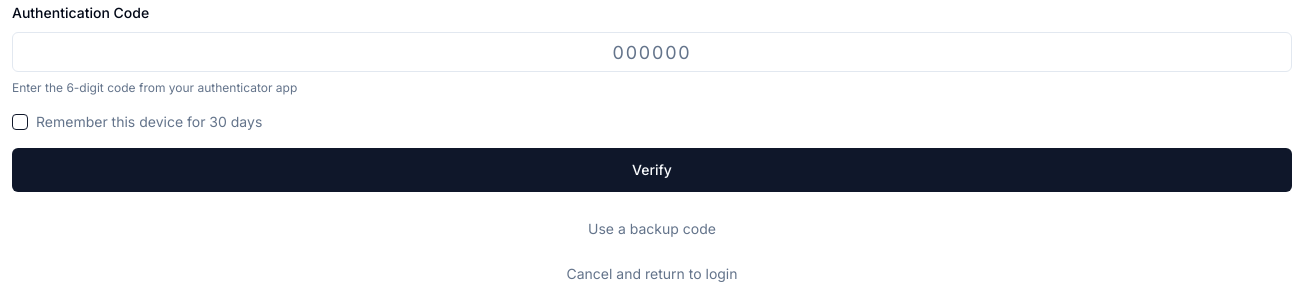
it: TwoFactorVerifyForm › when userId is present › toggles to backup code mode
What coordinates should you click on to do the following:
click the button "Use a backup code"
I would click on:
 (652, 229)
Its box is [588, 219, 716, 239].
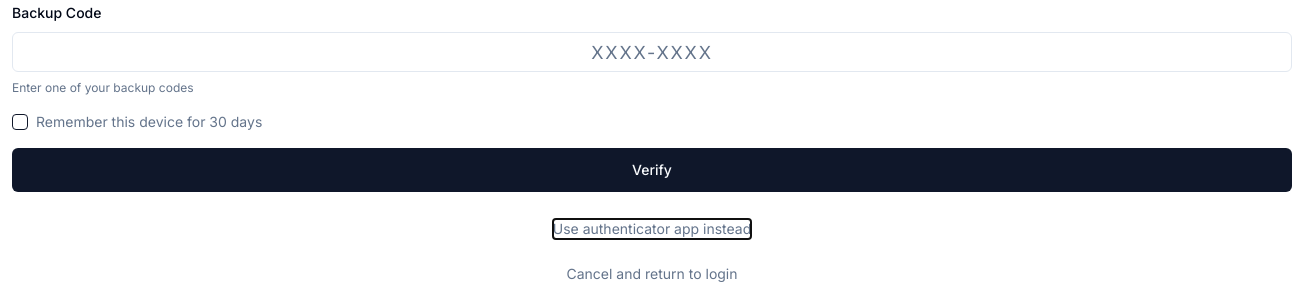
Expected: the field labelled "Backup Code" is shown, [12, 32, 1292, 72]
Result: the button "Use authenticator app instead" is shown at [553, 219, 751, 239]
